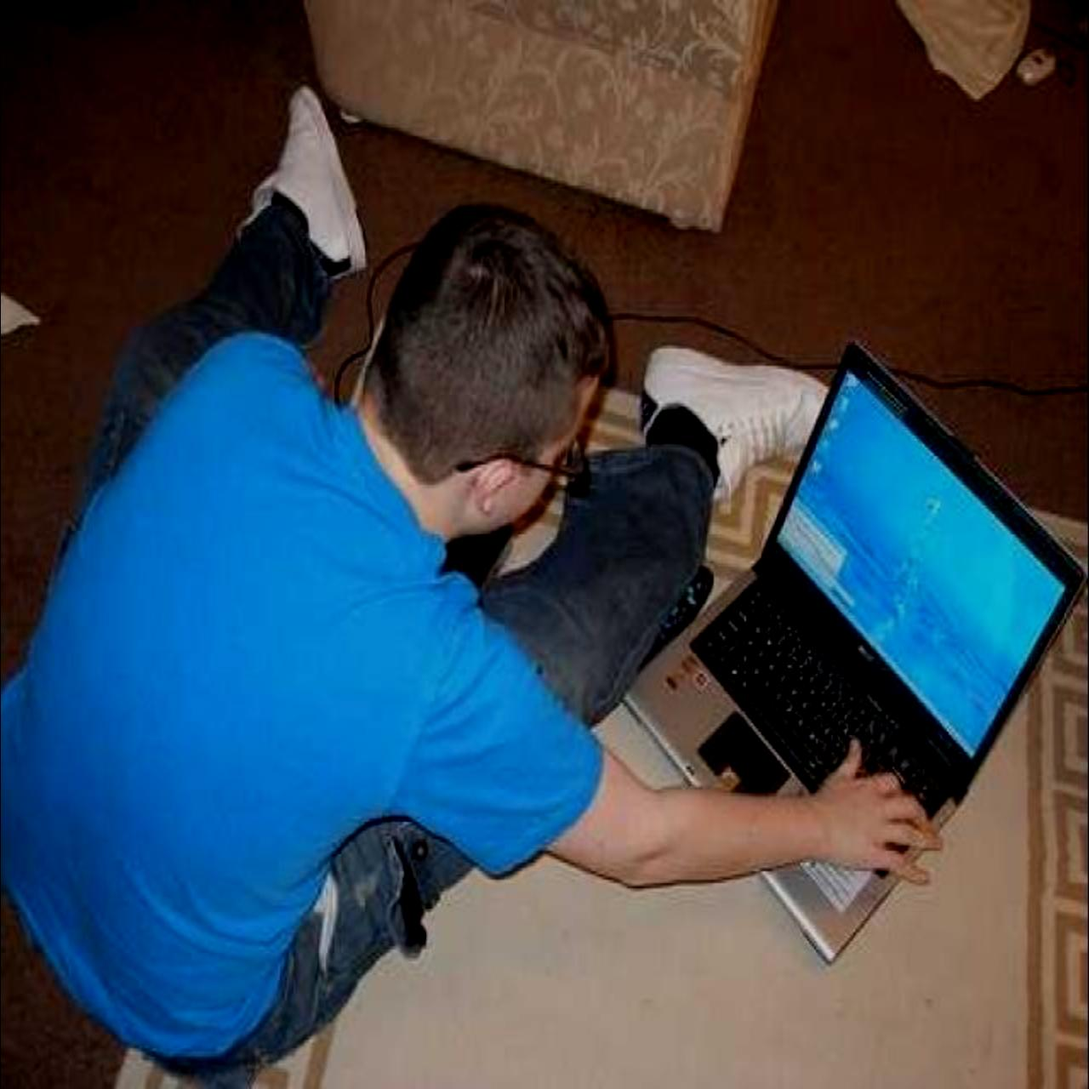laptop: (633, 322, 1089, 955)
